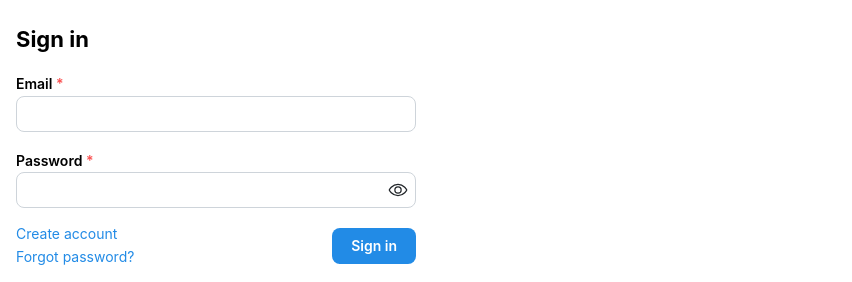
Test case: shows how long to wait when login is rate limited
Type "user@example.com" into the field labelled "Email *" at [216, 114], box x1=16 y1=96 x2=416 y2=132
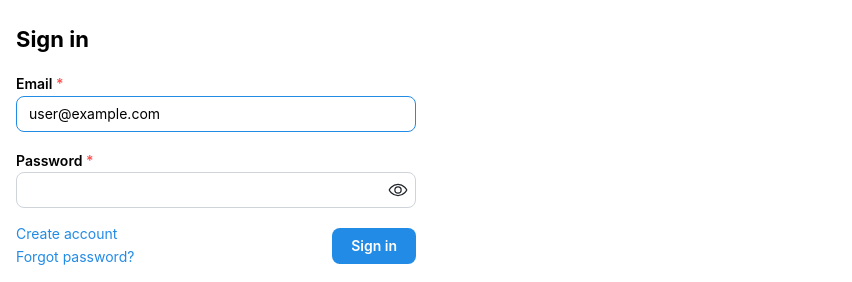
Type "secret" into the password field labelled "Password *" at [216, 190], box x1=17 y1=173 x2=415 y2=207
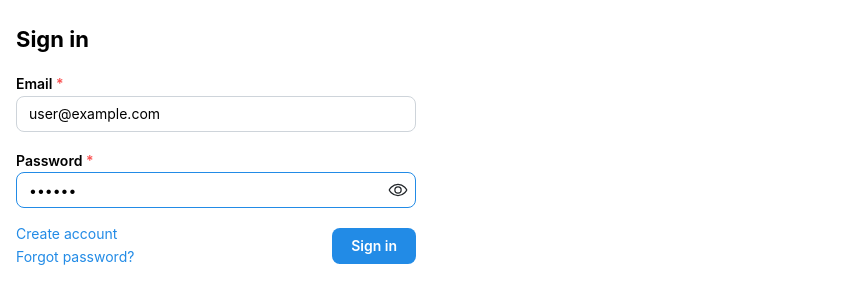
Click the button "Sign in" at [374, 246], box x1=332 y1=228 x2=416 y2=264
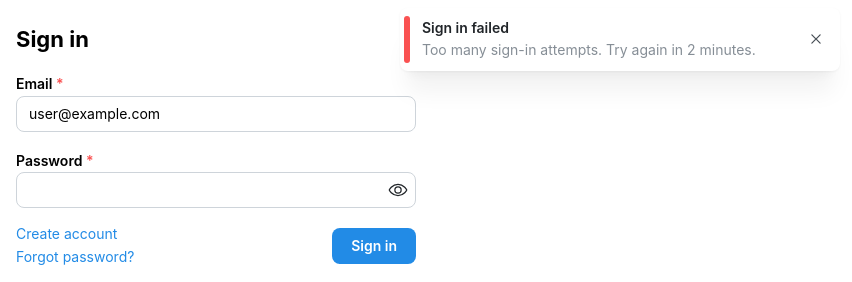
Result: the text "Too many sign-in attempts. Try again in 2 minutes." is shown at x1=422 y1=40 x2=792 y2=61
